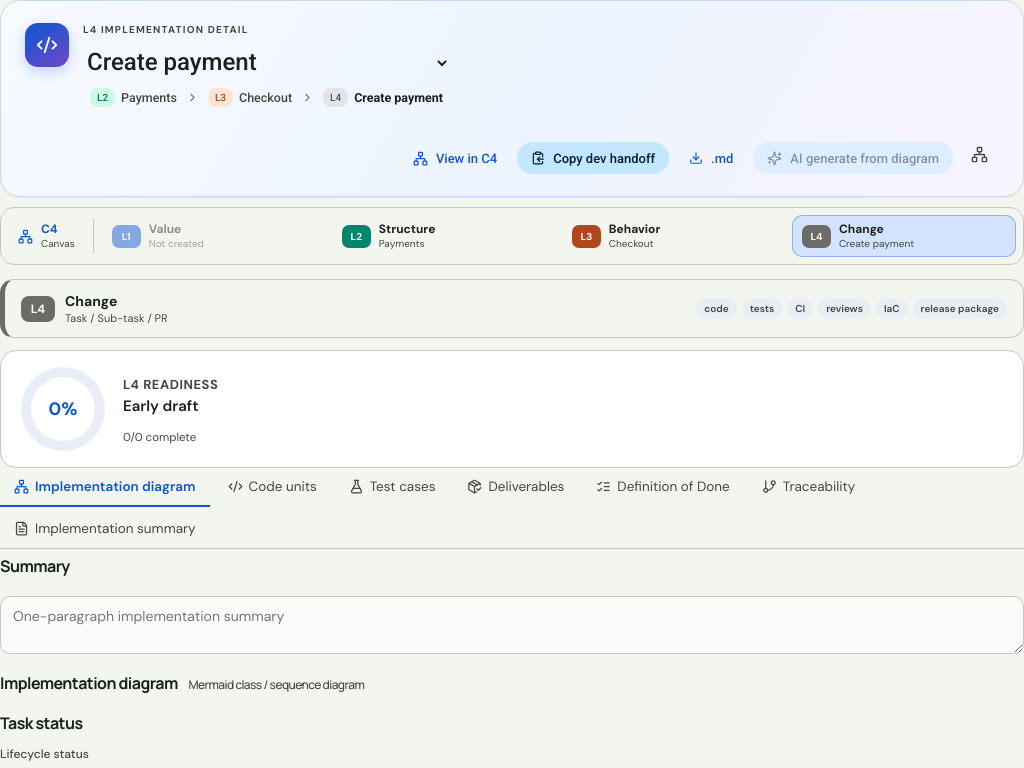
Test: level workspace coverage › offers first-class L4 delivery and release evidence
What coordinates should you click on to do the following:
click the button "Deliverables"
I would click on:
 (516, 488)
Its box is left=453, top=468, right=578, bottom=507.
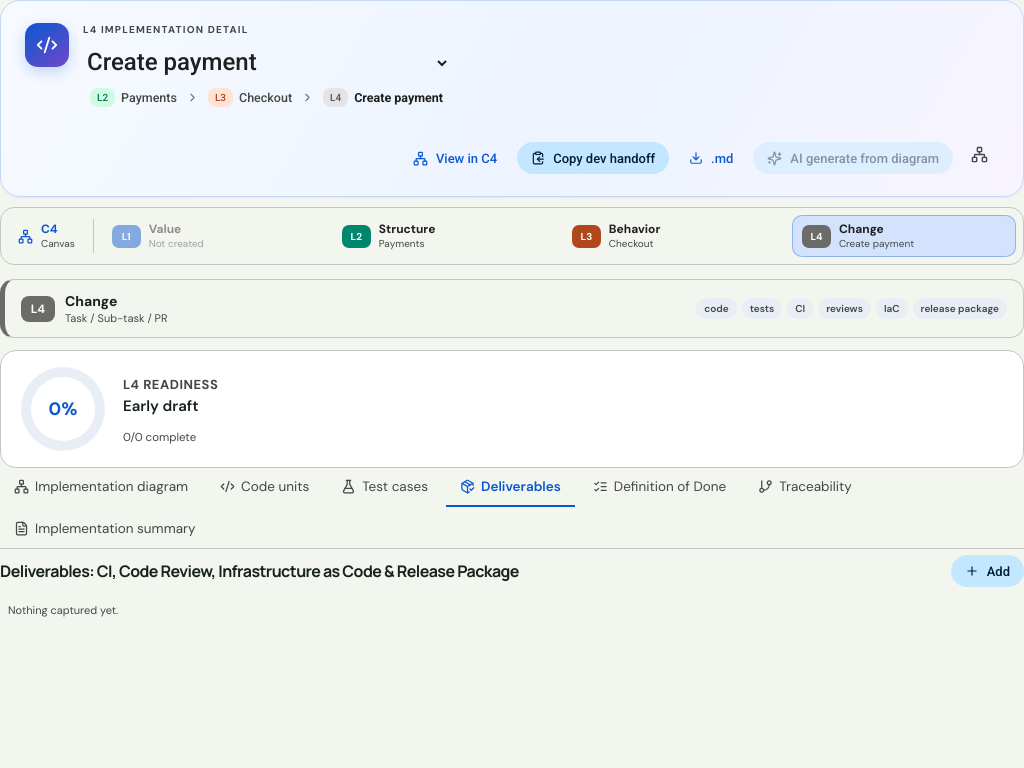
Now the heading "Deliverables: CI, Code Review, Infrastructure as Code & Release Package" is shown, box left=0, top=560, right=519, bottom=582
What coordinates should you click on to do the following:
click the button "Add"
I would click on:
 (987, 571)
Its box is left=951, top=555, right=1023, bottom=587.
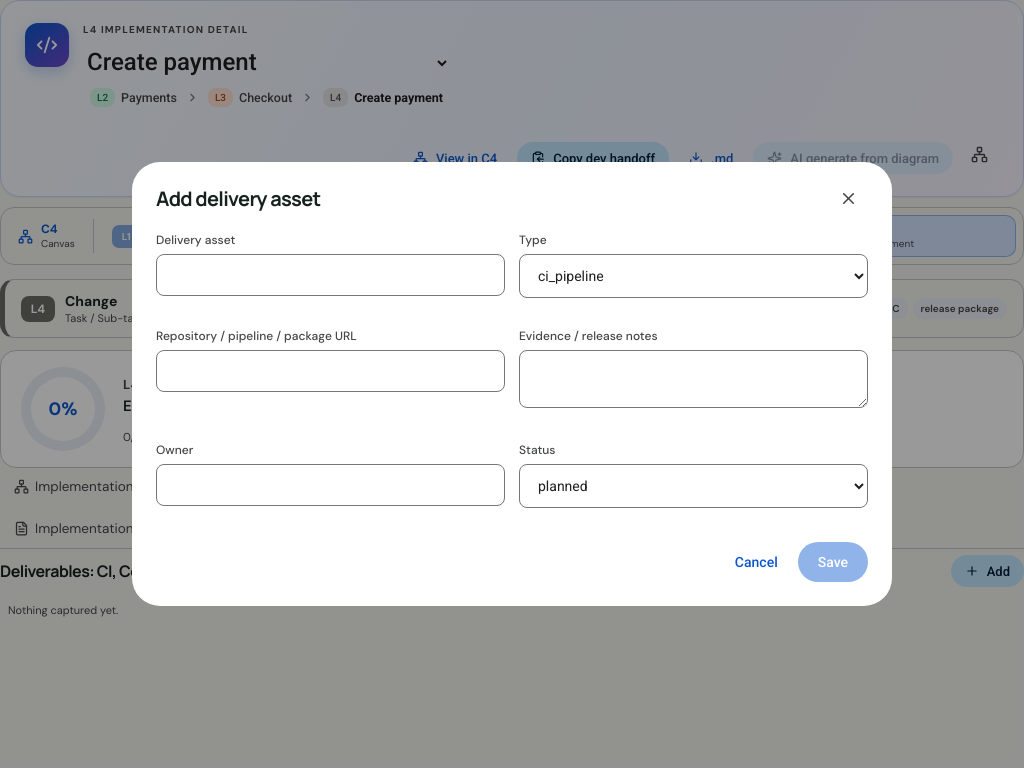
Now the dialog "Add delivery asset" is shown, box left=132, top=162, right=892, bottom=606
Now the text "Repository / pipeline / package URL" is shown, box left=156, top=328, right=357, bottom=344
